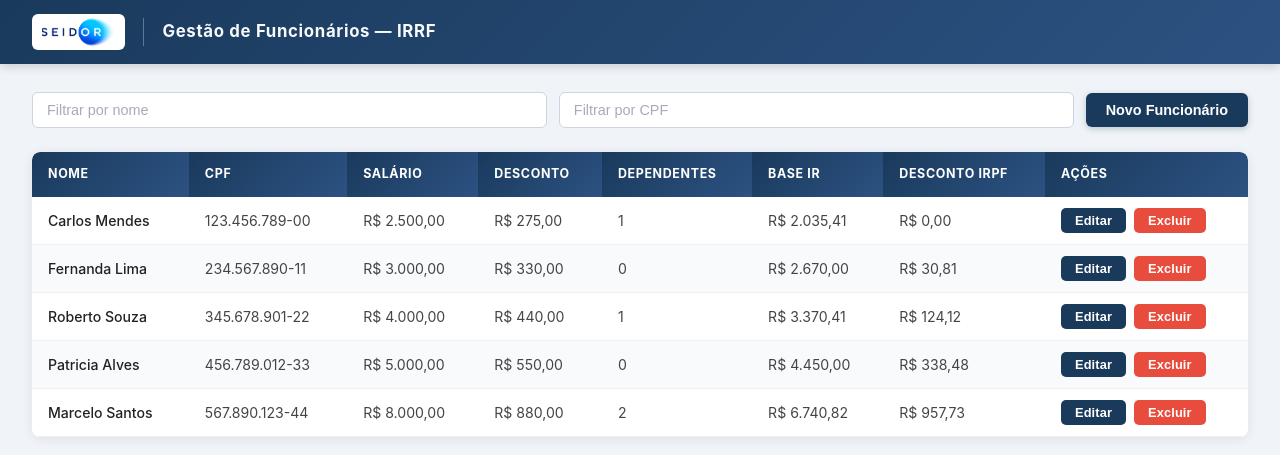
Test: App — integração › filtra a lista ao digitar nome parcial no campo de busca
# digita "Carlos" no filtro — só Carlos deve continuar visível
Type "Carlos" into the field with placeholder "Filtrar por nome" at (289, 110), box [32, 92, 547, 128]
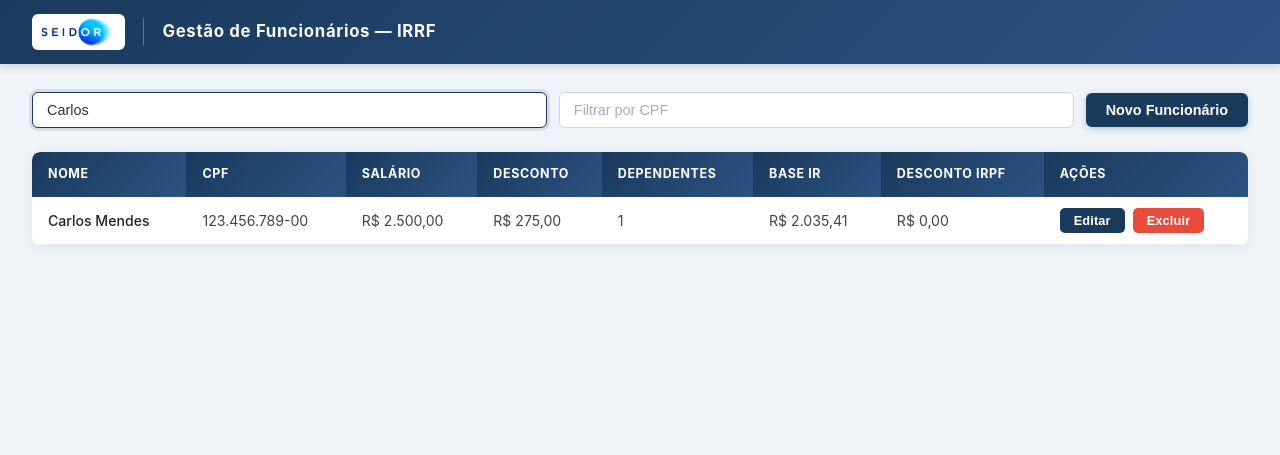
expect the text "Carlos Mendes" is shown: met, box [32, 197, 186, 244]
expect the text "Fernanda Lima" is gone: met
expect the text "Roberto Souza" is gone: met
